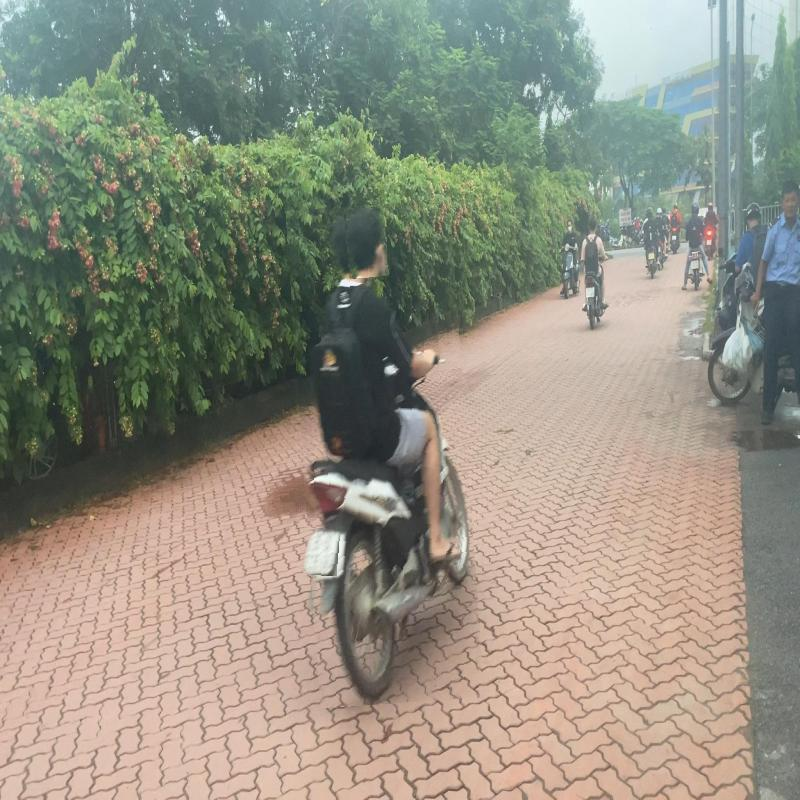licenseplate: (304, 528, 340, 576)
motorcyclist: (294, 202, 476, 706)
nohelmet: (346, 207, 388, 279)
